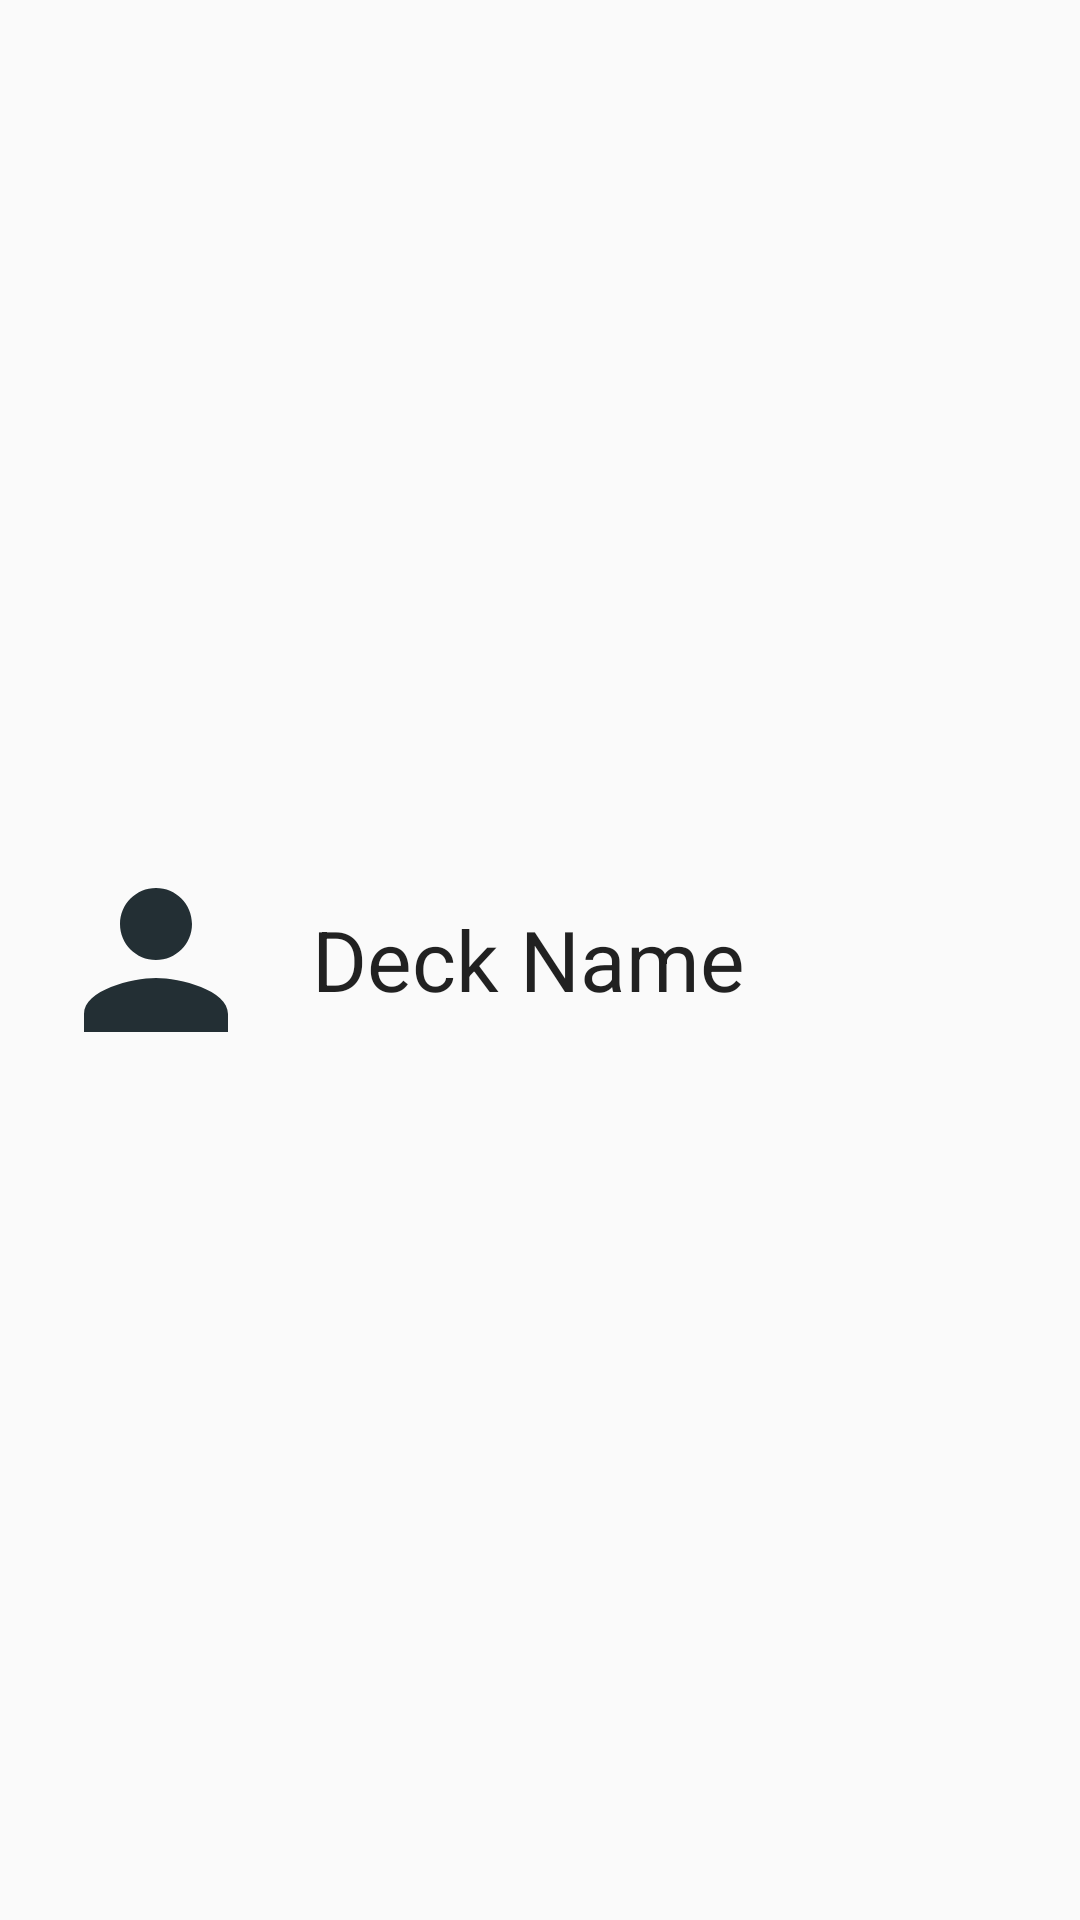

Where to tap for icons on this 1080 × 1920 app screen, as point (x, y):
person: point (156, 960)
